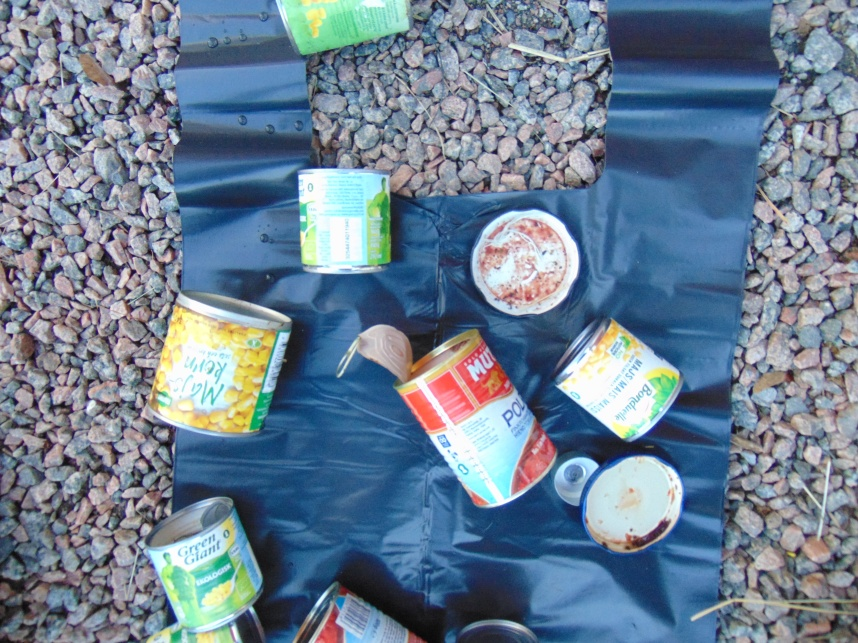metal: (471, 207, 581, 316), (578, 453, 683, 555), (551, 451, 600, 507)
metal_can: (392, 328, 557, 511), (552, 313, 684, 445), (142, 495, 267, 631), (294, 164, 394, 274), (287, 580, 445, 643), (274, 1, 413, 57), (125, 618, 268, 643), (441, 617, 546, 643)
